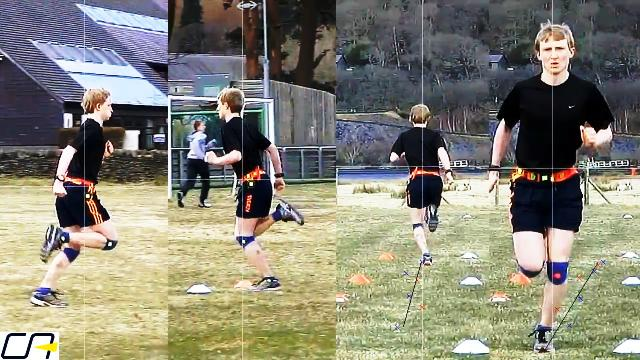berlari: (490, 12, 616, 360), (200, 81, 308, 297), (31, 78, 127, 304), (383, 97, 455, 267)
